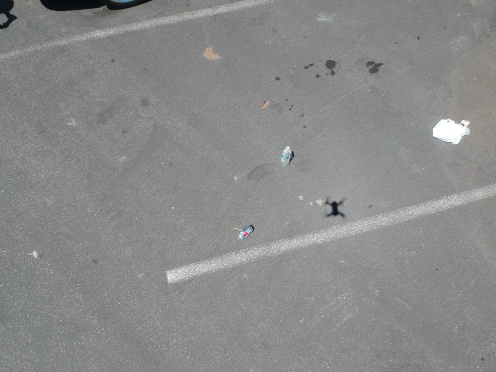bottle: (278, 141, 293, 166)
can: (230, 223, 256, 241)
plastic bag: (429, 114, 475, 147)
